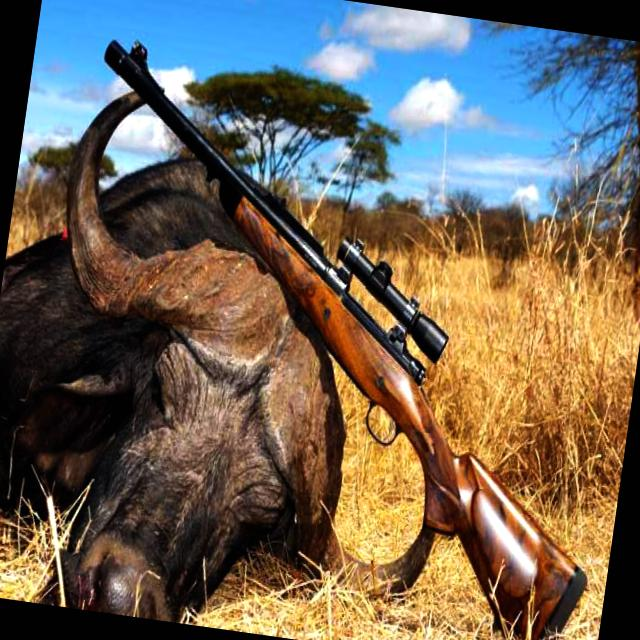rifle: (25, 22, 640, 640)
